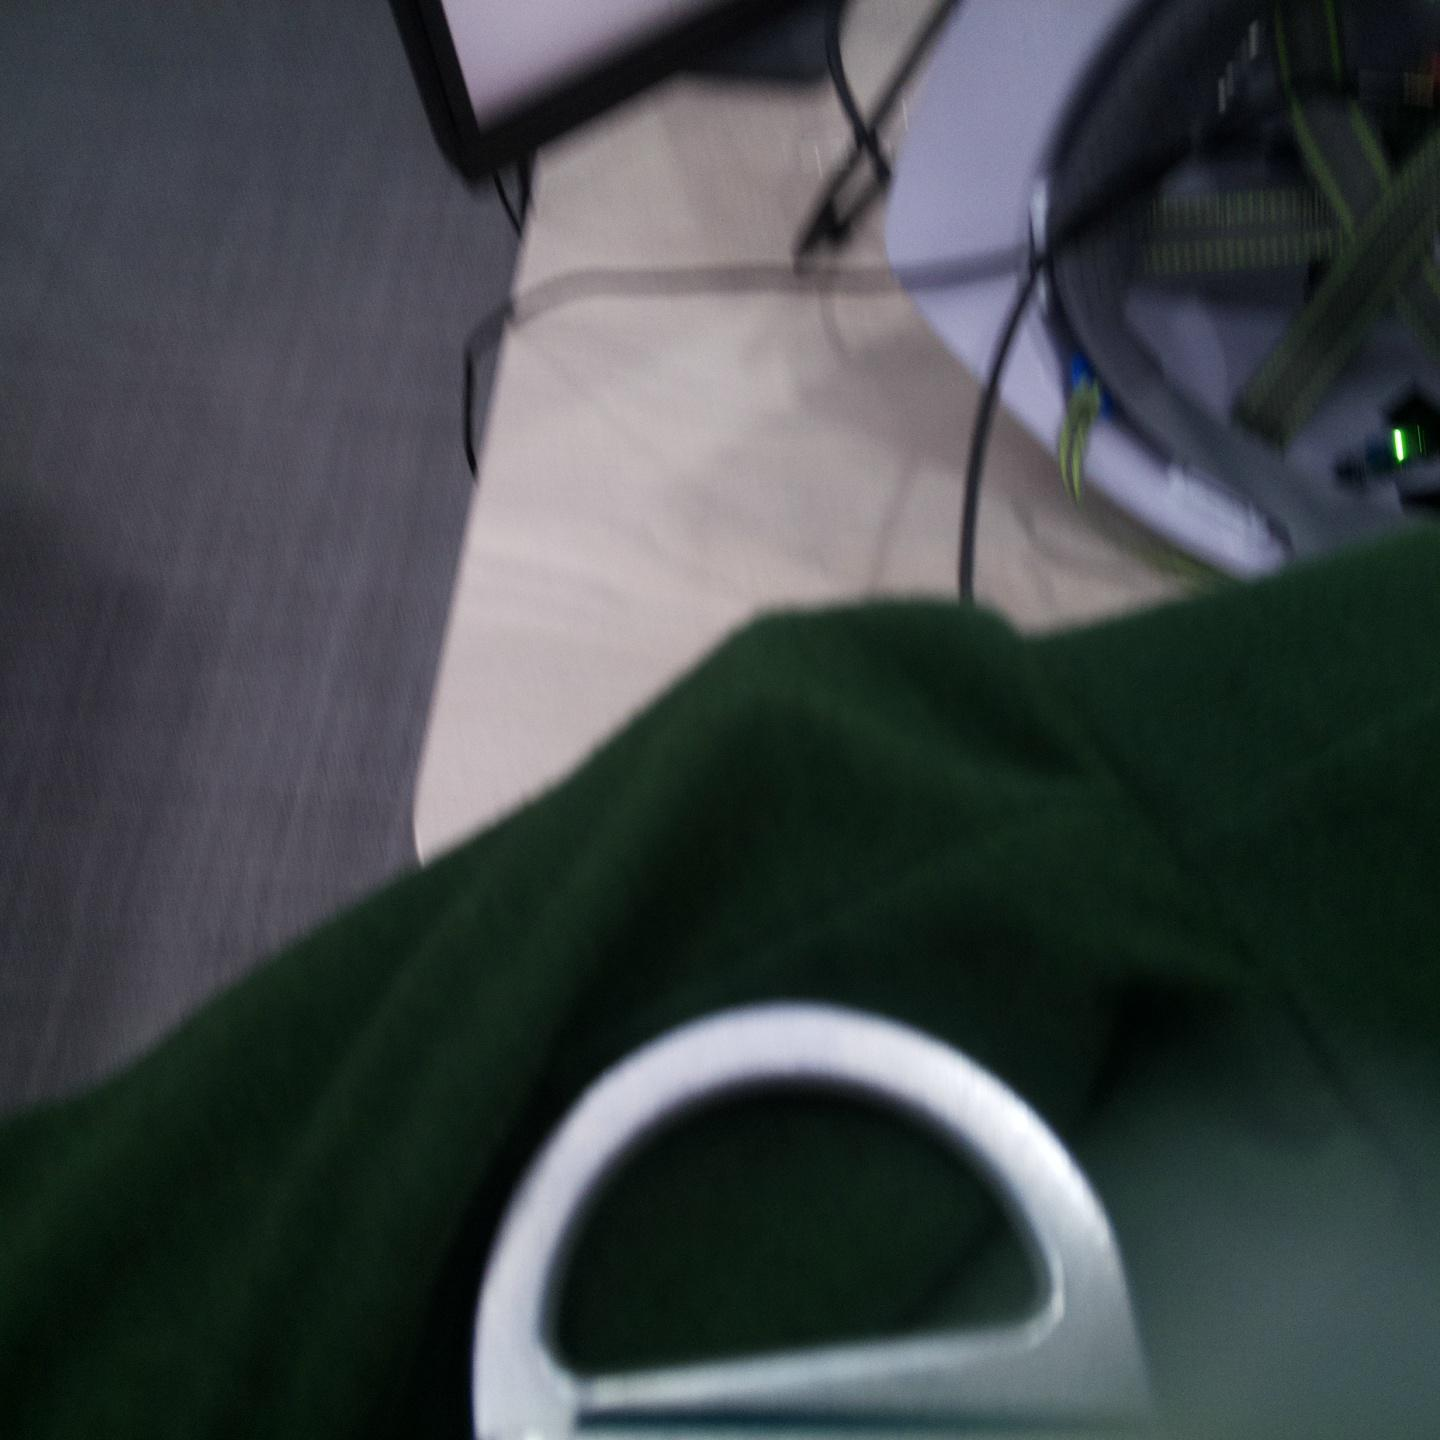UNSUCCESS: (459, 997, 1127, 1410)
